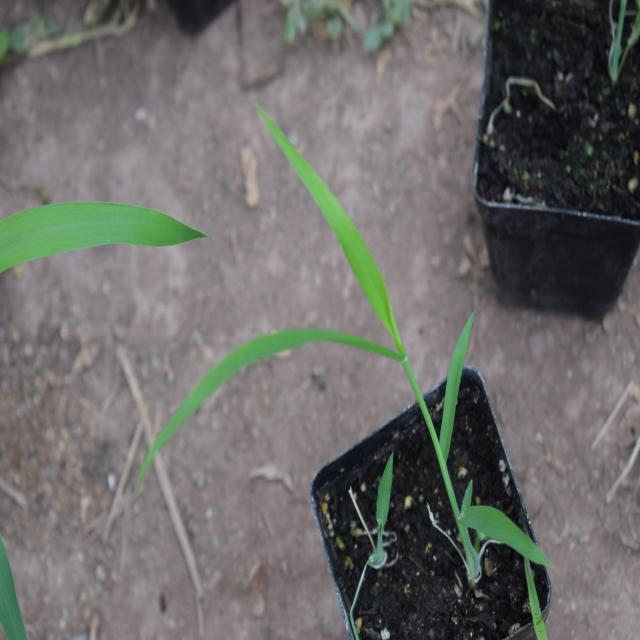crabgrass: (146, 146, 518, 550)
